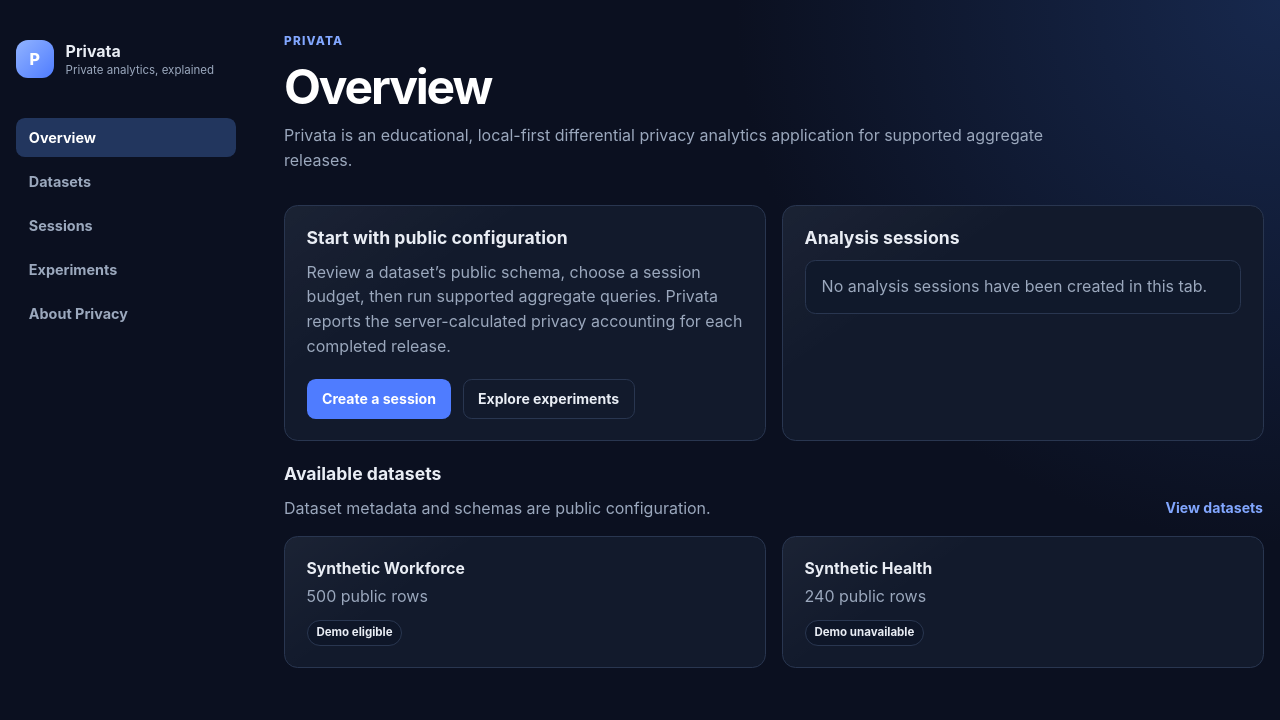
it: Privata frontend › preselects a dataset when its catalog action opens Sessions
Step 1. Click the link "Datasets" → (60, 182), box [29, 173, 91, 190]
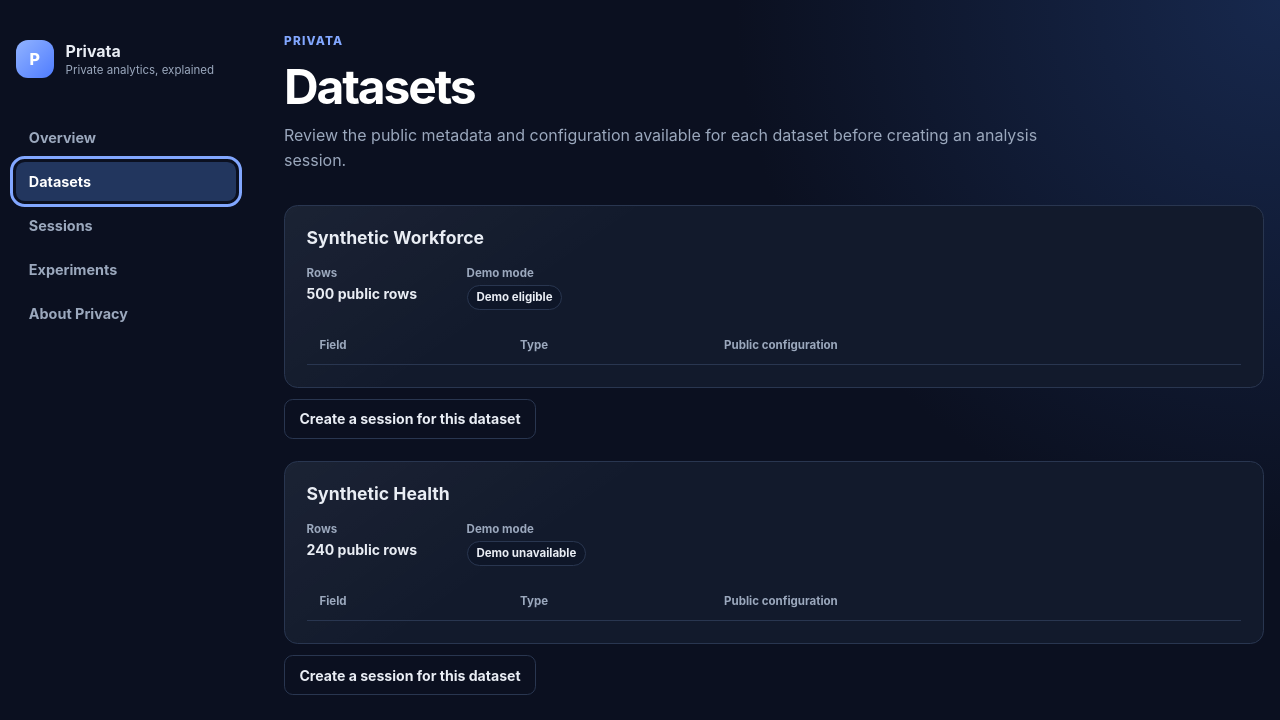
Step 2. Click the button "Create a session for this dataset" below "Demo unavailable" → (410, 675), box [284, 655, 536, 695]
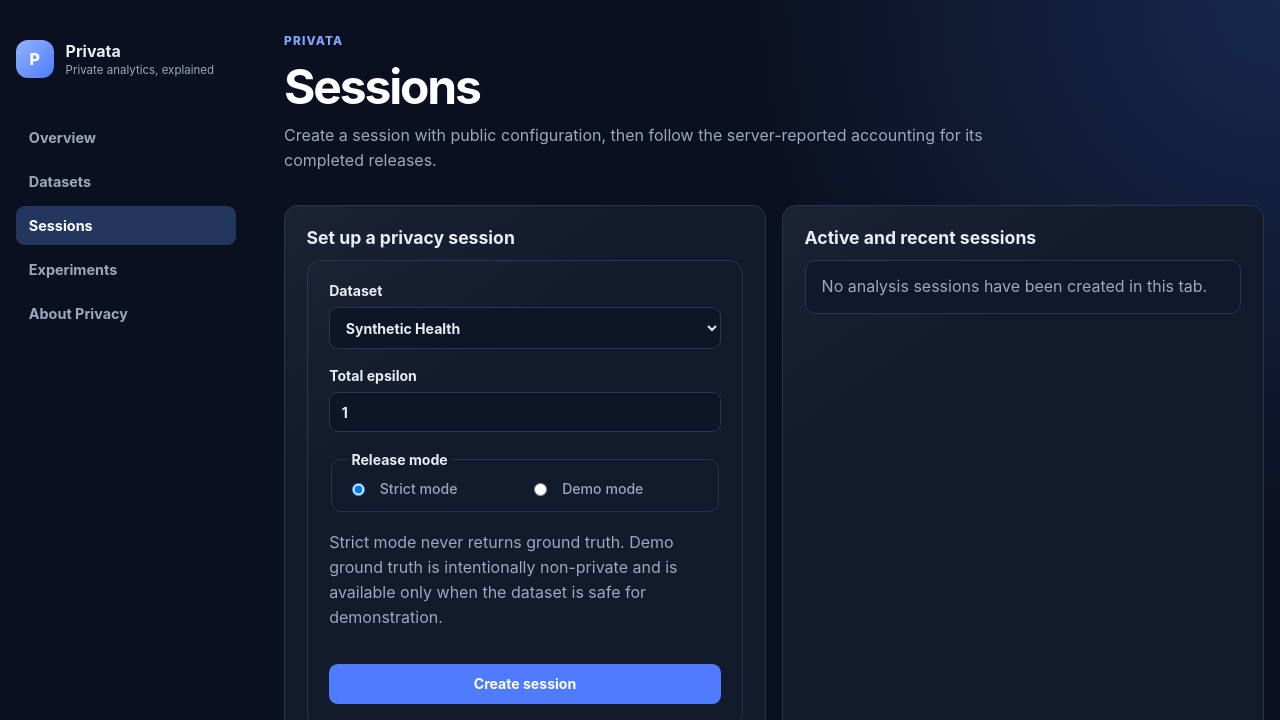
Expected: the heading "Sessions" is shown, [284, 57, 480, 116]
Expected: the dropdown labelled "Dataset" shows "Synthetic Health", [329, 307, 721, 349]
